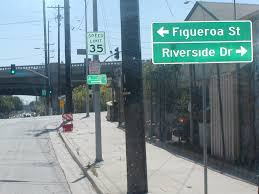speedLimit35: (85, 29, 107, 55)
